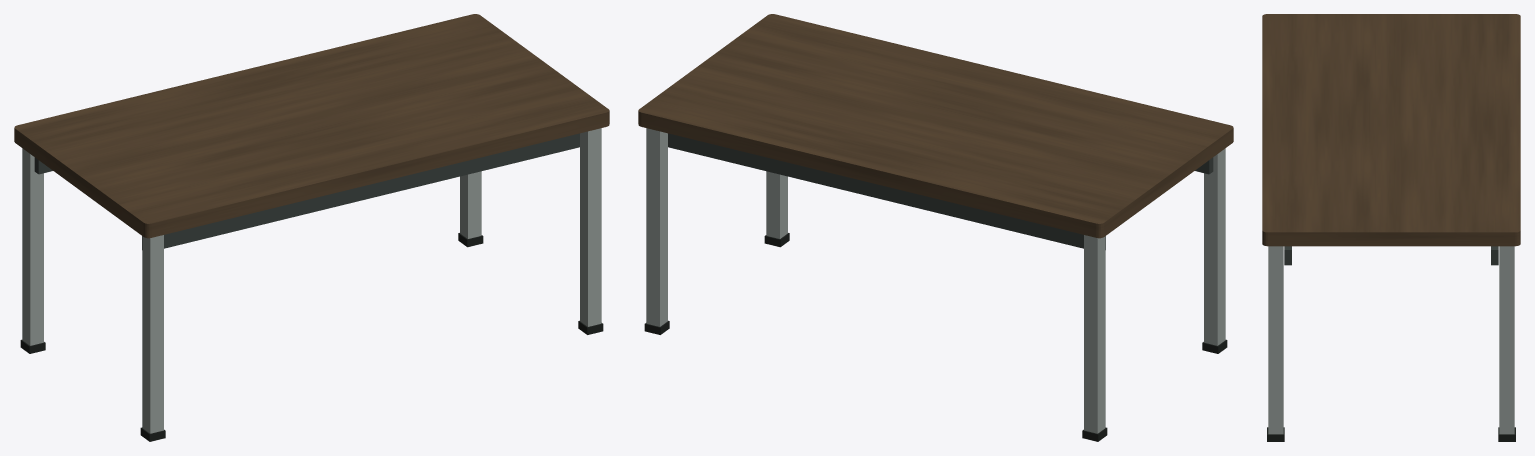
The model's file is SM_ArchiveProps_WorkTable.fbx.
3 views of the same model, side by side, from view 1: azimuth 30°, elevation 25°; view 2: azimuth 150°, elevation 25°; view 3: azimuth 270°, elevation 25° (orthographic). The views are drawn at different scales.
Parts seen in each view (by area): view 1: SM_ArchiveProps_WorkTable; view 2: SM_ArchiveProps_WorkTable; view 3: SM_ArchiveProps_WorkTable.
Part boxes in pixels (x1=…): SM_ArchiveProps_WorkTable: x1=14, y1=14, x2=609, y2=441; SM_ArchiveProps_WorkTable: x1=638, y1=14, x2=1233, y2=441; SM_ArchiveProps_WorkTable: x1=1262, y1=14, x2=1520, y2=441.
Size of the model in its own units: 1.7 by 0.85 by 0.77.
